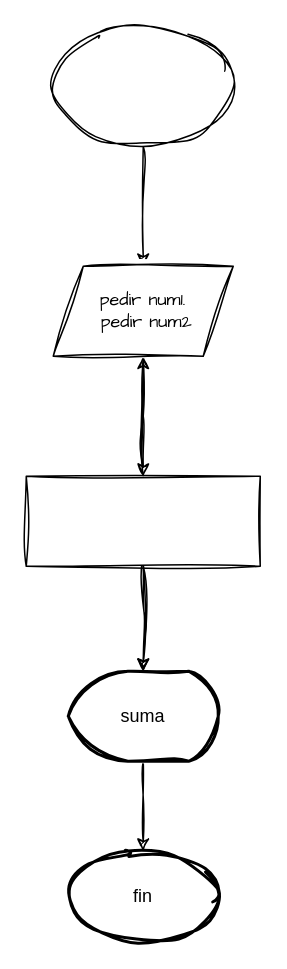
Some shapes in this 287 by 969 pixel diagram are drawn without their labels. Here are the shapes that lost their labels. From the top down, the centre of each, then its label:
the point at 142,85: Inicio
the point at 142,520: sum = num1 + num2
